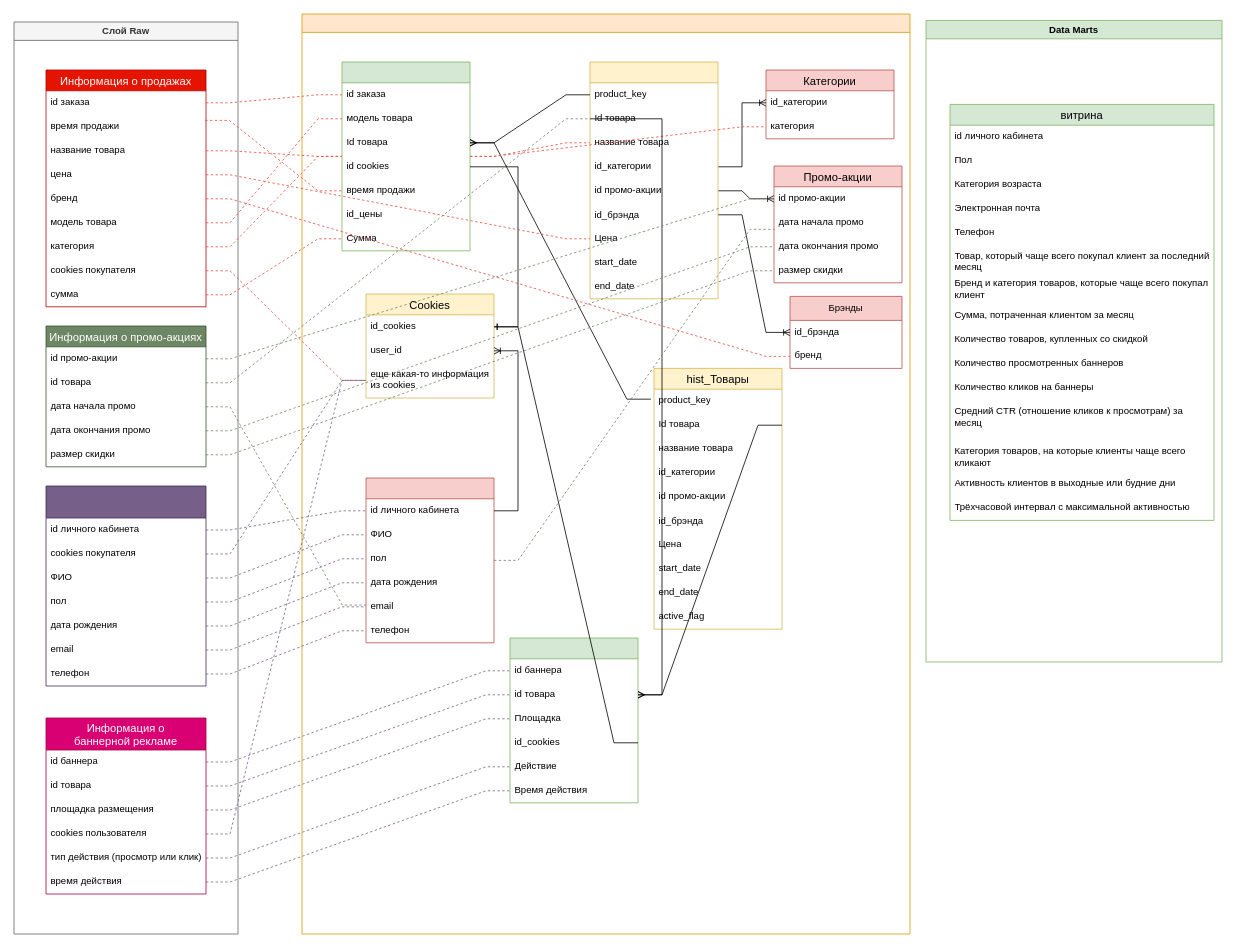
This 1236x948 diagram has some shape labels left out. The shapes that lost their labels are listed below. From the top down, each one's box as (x1, y1, x2, y2) in pixels, then its label:
(341, 61, 470, 251): fct_Продажи
(589, 61, 718, 299): Товары
(301, 13, 910, 934): Слой Core
(365, 477, 494, 643): Покупатель
(45, 485, 206, 686): Информация о личных кабинетах покупателей
(509, 637, 638, 803): fct_Баннеры
